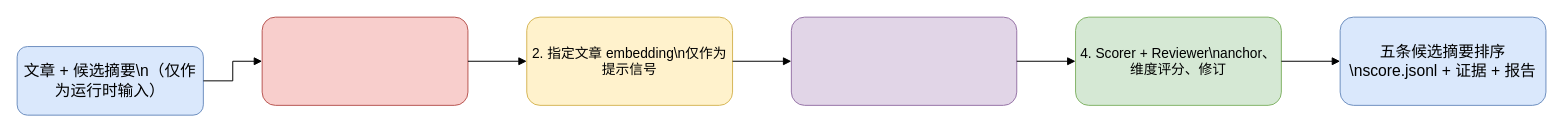
The diagram is 1563 pixels wide and 132 high, and some of its shapes have lost their labels. Each missing label, with the centre of its shape:
"1. 物理硬门禁\n复制 / 空输入 / 不可用截断" belongs at (x=364, y=60).
"3. Grounding Gate + 独立 Reviewer\n无关 / 颠倒事实则终止" belongs at (x=903, y=60).
